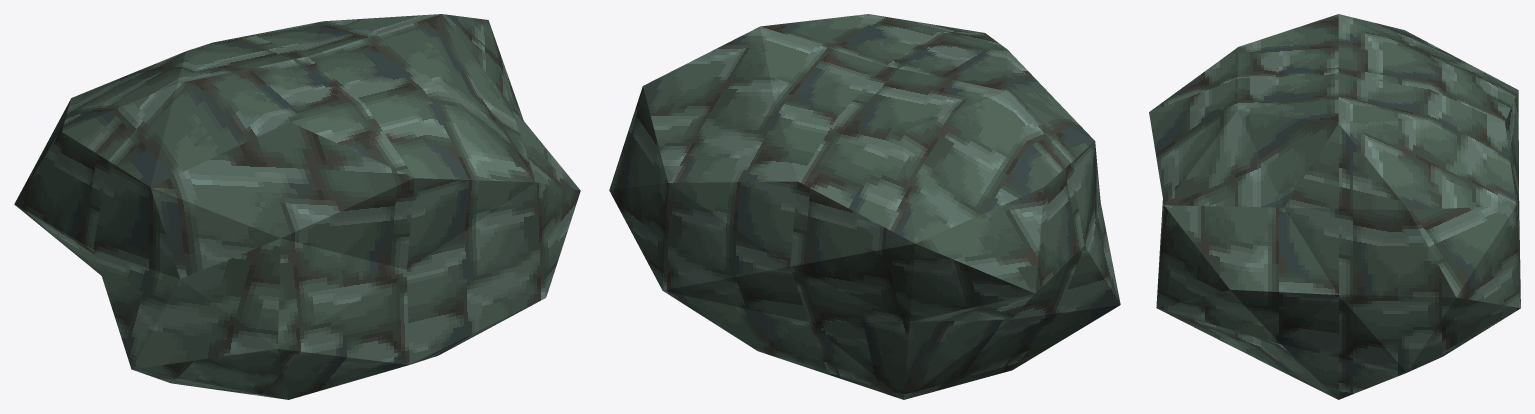
Rendered from boulder.glb.
3 views of the same model, side by side, from view 1: azimuth 30°, elevation 25°; view 2: azimuth 150°, elevation 25°; view 3: azimuth 270°, elevation 25° (orthographic). The views are drawn at different scales.
Parts seen in each view (by area): view 1: boulder; view 2: boulder; view 3: boulder.
Part boxes in pixels (x1,y1,x2,y2): boulder: (14,14,580,399); boulder: (609,14,1120,399); boulder: (1149,14,1520,399).
Size of the model in its own units: 1.4 by 0.9072 by 1.12.
1 material, 1 textured.
